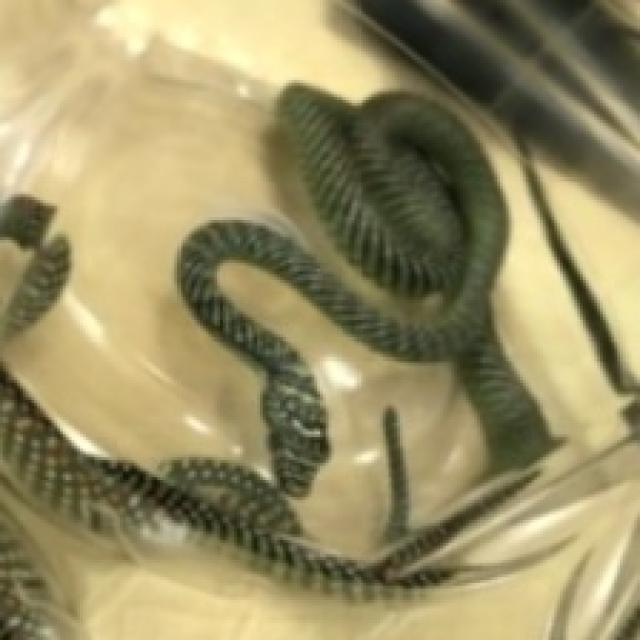paradise tree snake: (0, 0, 637, 637), (174, 217, 426, 497), (271, 77, 457, 306), (451, 337, 554, 474), (180, 226, 223, 320)
